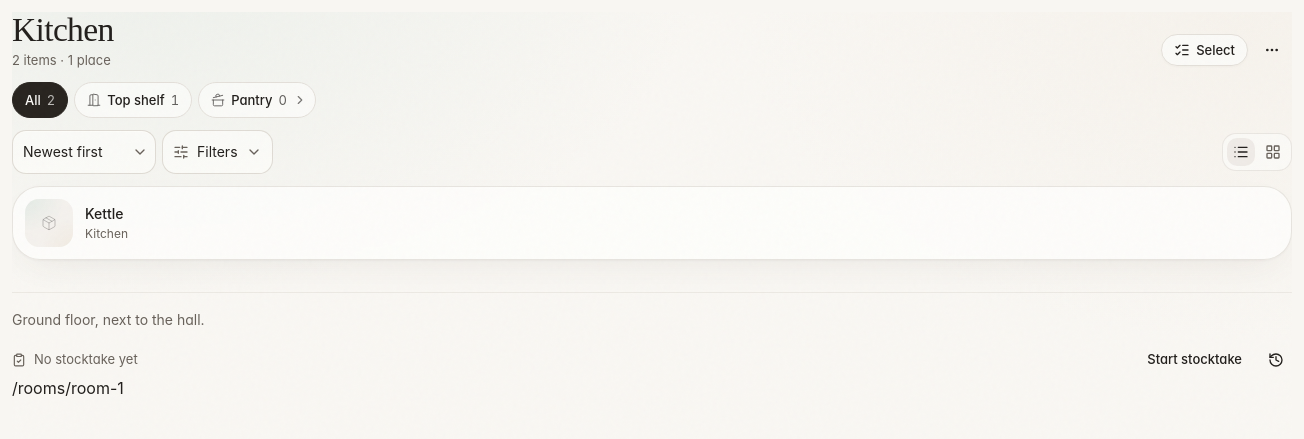
Test: RoomDetailPage › shows no checkboxes until Select is pressed, and hides them again
The image size is (1304, 439).
Check: the text "Select all loaded" is not shown
Click the button with aria-label "Select items": (1205, 50) [1161,34,1248,66]
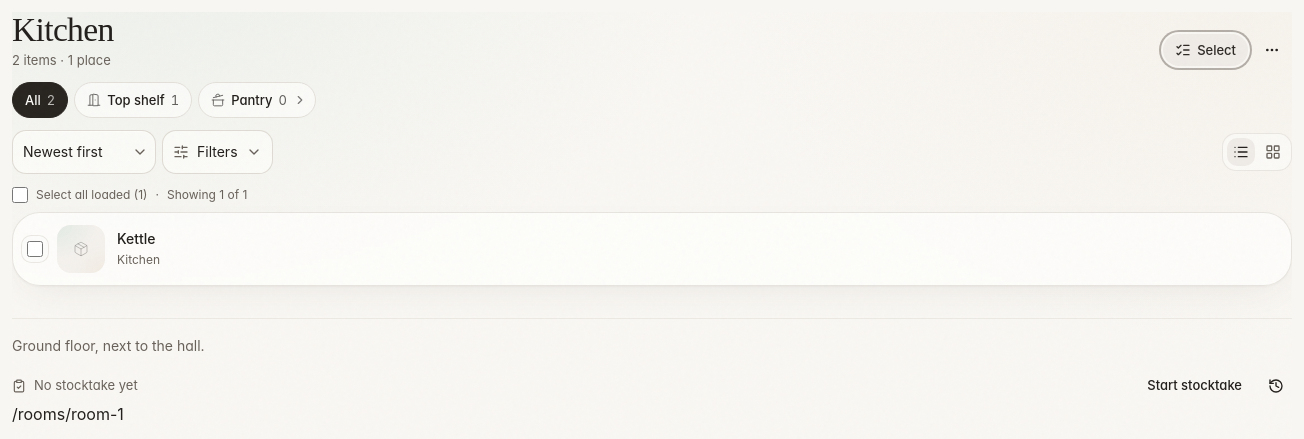
Check: the checkbox named "Select Kettle" is shown, box [27,241,43,257]
Check: the checkbox named "Select all loaded items" is shown, box [12,187,28,203]
Click the button with aria-label "Select items": (1206, 50) [1163,34,1248,66]
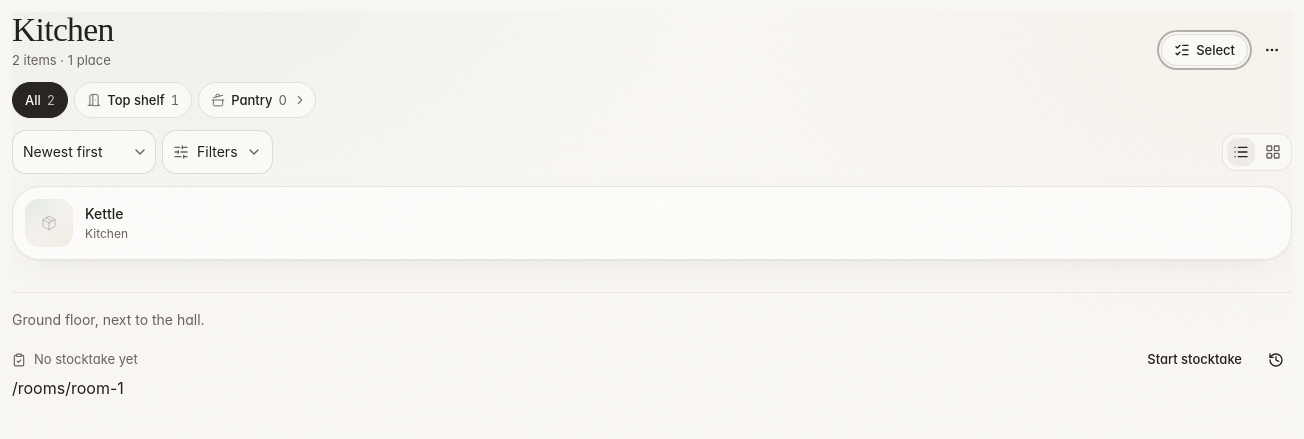
Check: the checkbox is gone
